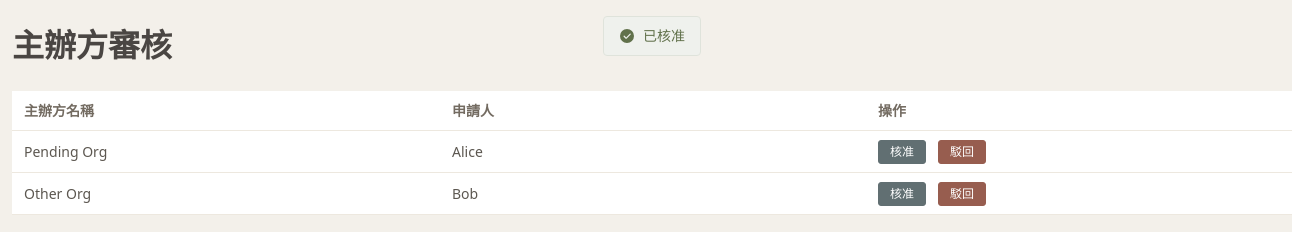
it: AdminOrganizersPage 主辦方審核清單 › [AWU-REVIEW-003] 點選駁回後呼叫駁回端點成功，重新查詢清單，該筆申請自清單移除
Click the button "駁回" in the row of "Pending Org": coordinates (962, 152) [938,140,986,164]
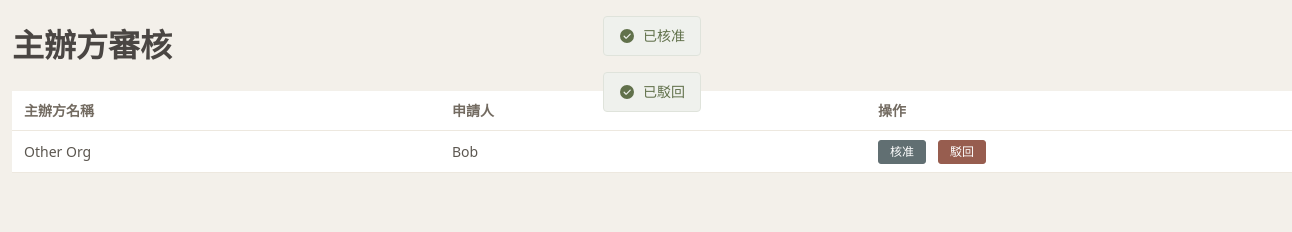
Expected: the text "Other Org" is shown, [24,142,91,161]
Now the text "Pending Org" is gone
